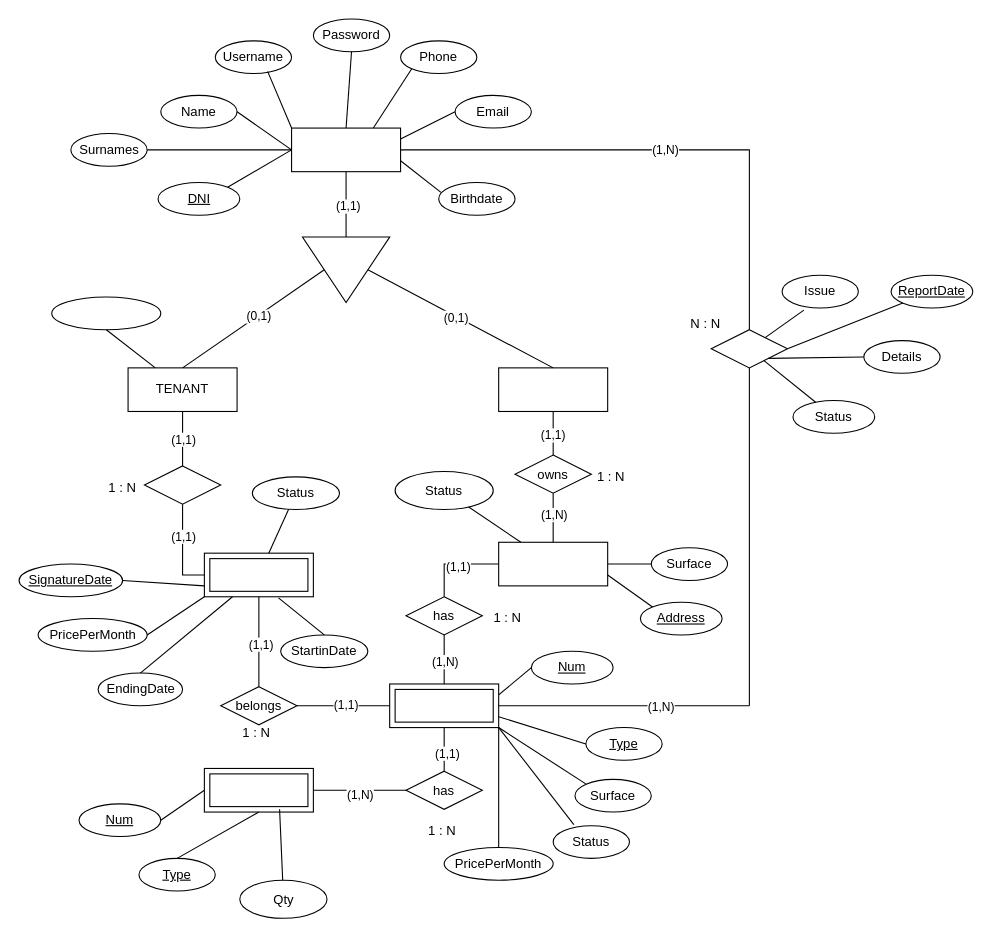
Image size: 992x937. Some labels were removed from this diagram. Each missing label, with the box of its shape:
CONTRACT: (203, 552, 313, 597)
FURNITURE: (203, 767, 313, 812)
IS A: (301, 236, 390, 302)
OWNER: (498, 367, 608, 411)
PROPERTY: (498, 541, 608, 586)
reports: (710, 329, 788, 368)
ROOM: (389, 683, 499, 728)
signs: (143, 465, 221, 504)
StudentLicense: (51, 296, 161, 330)
USER: (290, 127, 401, 172)
